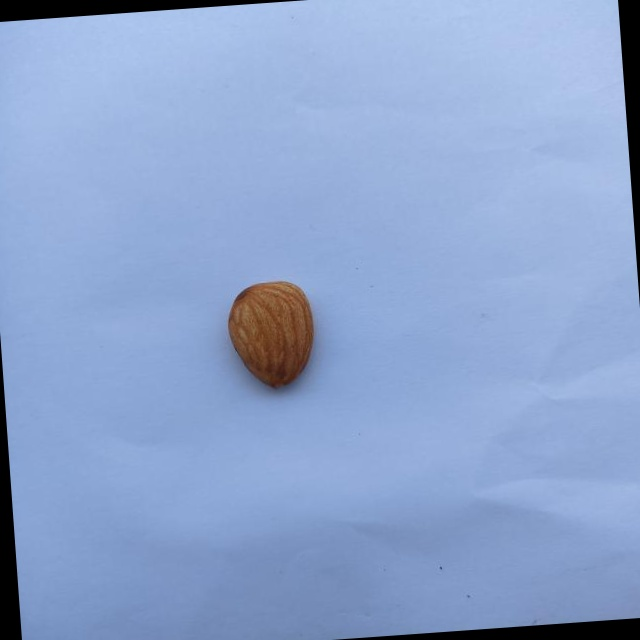grade1: (219, 272, 328, 400)
